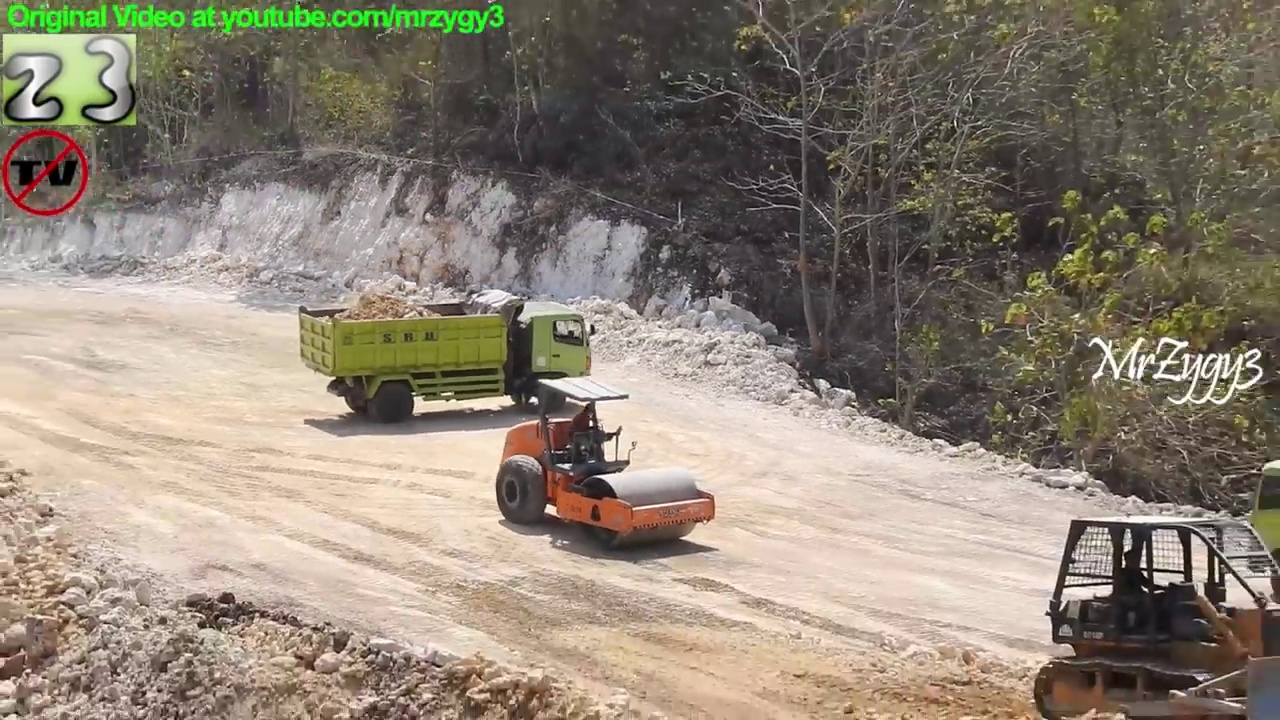bulldozer: (1031, 512, 1277, 720)
compactor: (493, 372, 720, 557)
truck: (298, 283, 603, 427), (1223, 452, 1280, 603)
